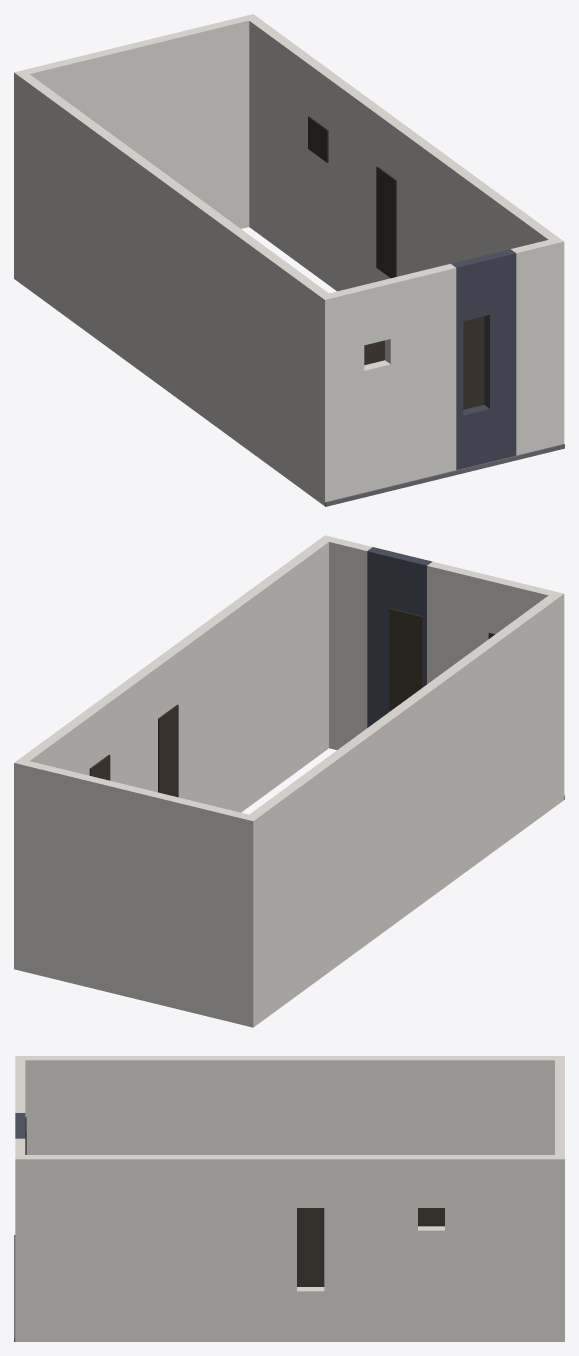
The model's file is SM_Floor_NarrowUpperScatterHighEndR_White_364_01.gltf.
The picture shows the model from 3 angles, top to bottom: view 1: azimuth 30°, elevation 25°; view 2: azimuth 150°, elevation 25°; view 3: azimuth 270°, elevation 25°; orthographic projection. The views are drawn at different scales.
Visible parts, largest first — view 1: SM_Floor_NarrowUpperScatterHighEndR_White_364_01; view 2: SM_Floor_NarrowUpperScatterHighEndR_White_364_01; view 3: SM_Floor_NarrowUpperScatterHighEndR_White_364_01.
Part boxes in pixels (<box>): SM_Floor_NarrowUpperScatterHighEndR_White_364_01: <box>14,14,564,506</box>; SM_Floor_NarrowUpperScatterHighEndR_White_364_01: <box>14,535,564,1027</box>; SM_Floor_NarrowUpperScatterHighEndR_White_364_01: <box>14,1056,564,1341</box>.
Size of the model in its own units: 3.64 by 3 by 8.21.
1 material, 1 textured.
